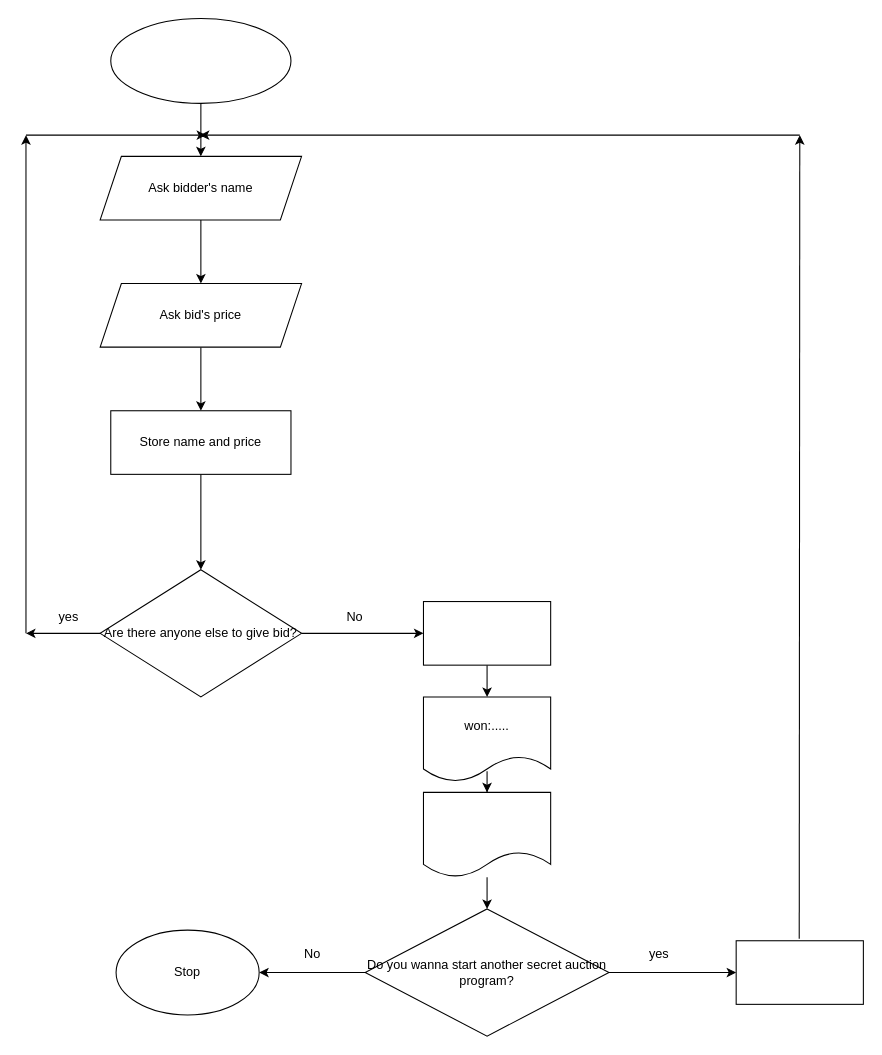
The diagram is 882 pixels wide and 1055 high, and some of its shapes have lost their labels. Each missing label, with the box of its shape:
All bids:.......: (422, 791, 551, 877)
clear all previous informations: (735, 940, 863, 1004)
Find the highest bid: (422, 600, 551, 665)
Start: (110, 17, 291, 103)
